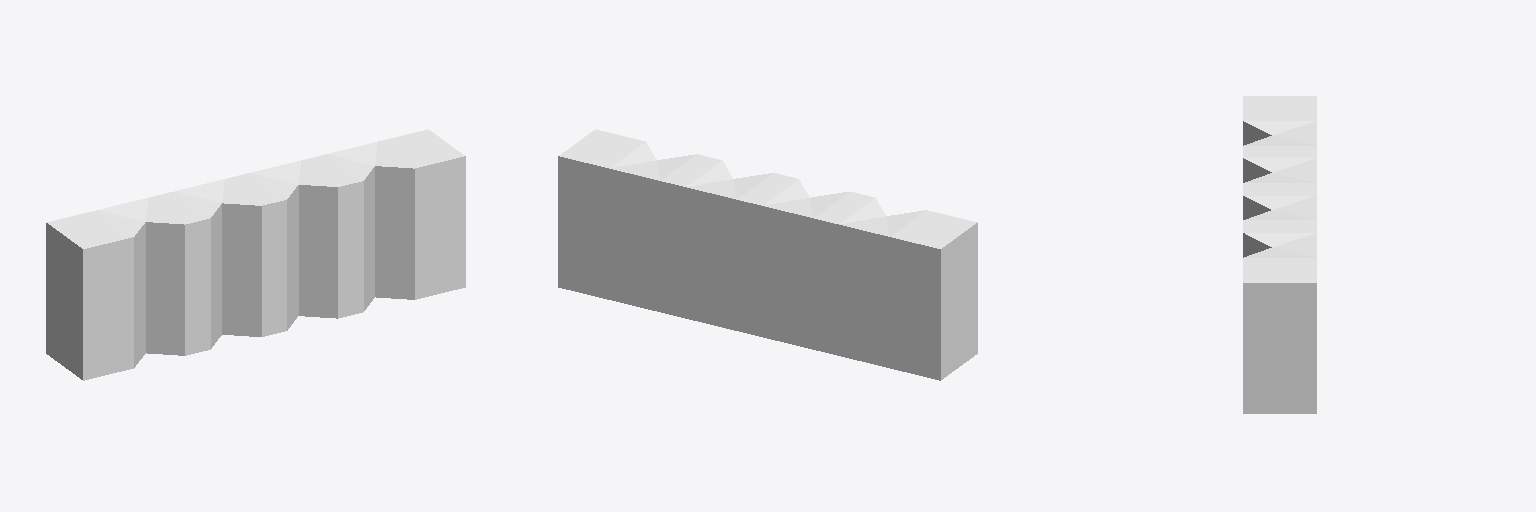
File: left_gripper_finger_link_visuals_mesh.obj
The picture shows the model from 3 angles: view 1: azimuth 30°, elevation 25°; view 2: azimuth 150°, elevation 25°; view 3: azimuth 270°, elevation 25°; orthographic projection.
Size of the model in its own units: 0.15 by 0.05 by 0.025.